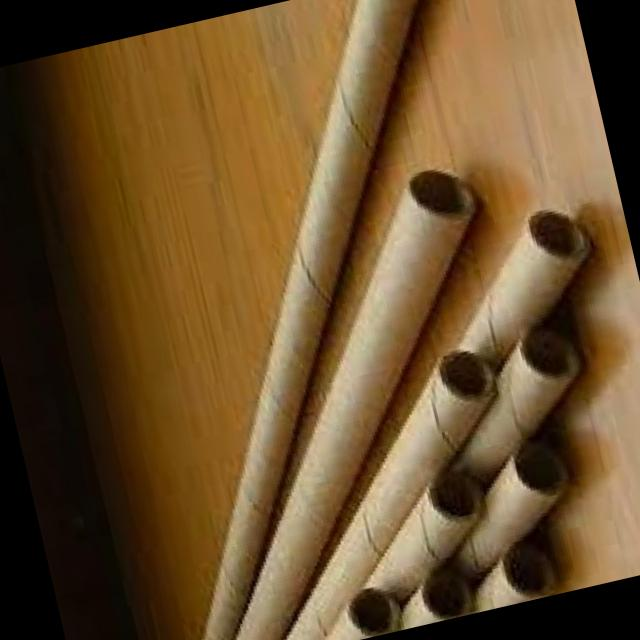cardboard paper: (201, 0, 416, 640), (234, 172, 478, 640), (284, 349, 490, 640), (459, 209, 588, 355), (463, 327, 579, 472), (369, 470, 485, 599), (461, 440, 566, 571), (472, 539, 553, 613), (399, 572, 471, 630), (324, 588, 401, 640)
